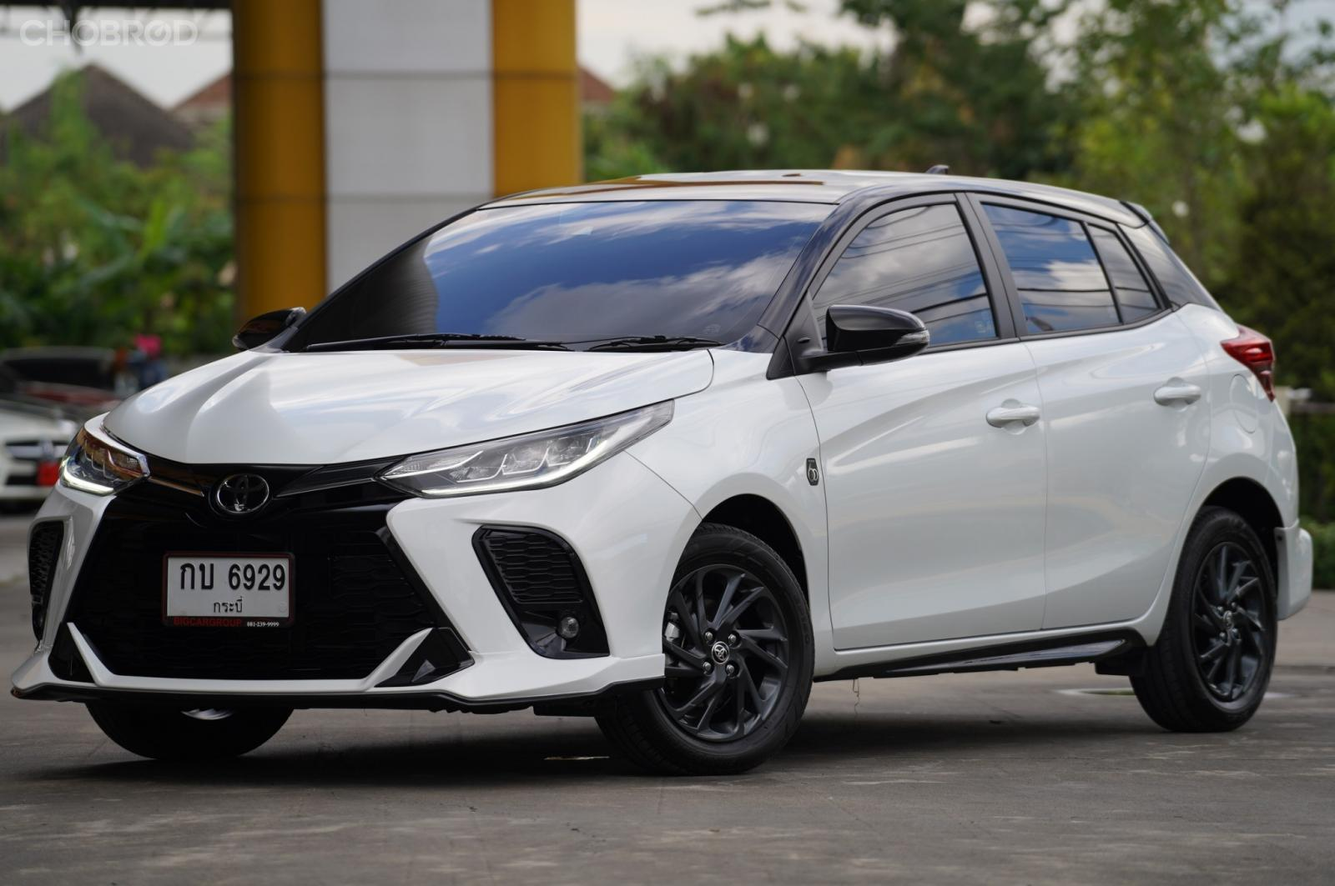license-plate: (151, 547, 302, 633)
